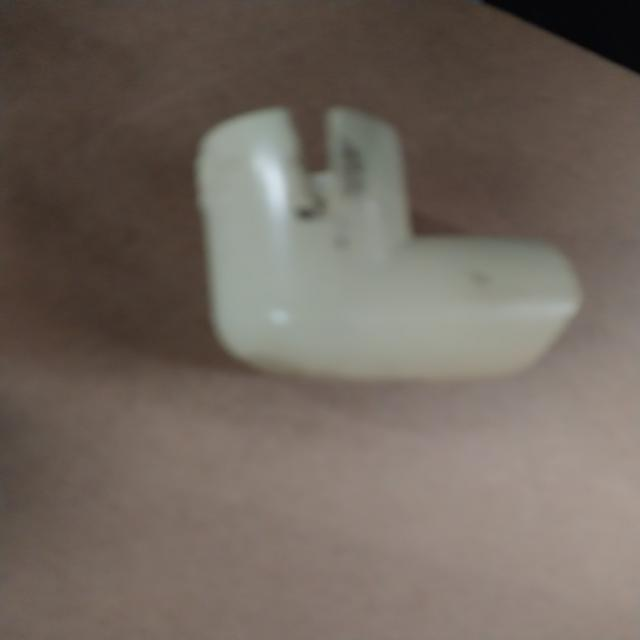L Joint: (192, 104, 592, 389)
